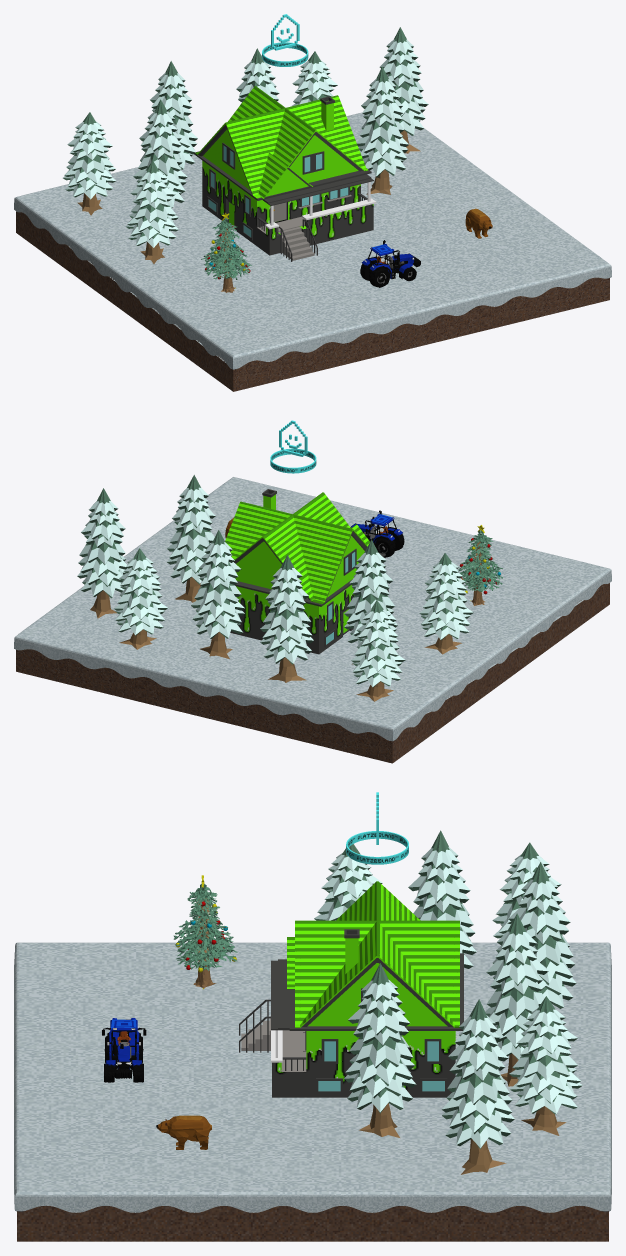
3 renders of one model, top to bottom at view 1: azimuth 30°, elevation 25°; view 2: azimuth 150°, elevation 25°; view 3: azimuth 270°, elevation 25°, orthographic. The views are drawn at different scales.
Visible parts, largest first — view 1: Cube.003, Cube.754, OBJRANDOM_CHRISTMAS_TREE, VEHICLES_TRACTOR, TYPE_PREMIUM, ANIMAL_OSO; view 2: Cube.003, Cube.754, OBJRANDOM_CHRISTMAS_TREE, VEHICLES_TRACTOR, TYPE_PREMIUM; view 3: Cube.003, Cube.754, OBJRANDOM_CHRISTMAS_TREE, VEHICLES_TRACTOR, ANIMAL_OSO, TYPE_PREMIUM.
Boxes of the visible parts, <box> form: Cube.003: <box>14,27,611,391</box>; Cube.754: <box>194,86,376,261</box>; OBJRANDOM_CHRISTMAS_TREE: <box>201,212,251,292</box>; VEHICLES_TRACTOR: <box>360,240,420,287</box>; TYPE_PREMIUM: <box>262,14,308,66</box>; ANIMAL_OSO: <box>465,208,492,238</box>; Cube.003: <box>14,475,611,763</box>; Cube.754: <box>225,489,388,654</box>; OBJRANDOM_CHRISTMAS_TREE: <box>458,525,503,605</box>; VEHICLES_TRACTOR: <box>350,510,404,557</box>; TYPE_PREMIUM: <box>270,420,316,473</box>; Cube.003: <box>14,830,611,1241</box>; Cube.754: <box>239,881,463,1097</box>; OBJRANDOM_CHRISTMAS_TREE: <box>173,875,237,989</box>; VEHICLES_TRACTOR: <box>102,1018,146,1082</box>; ANIMAL_OSO: <box>156,1115,211,1149</box>; TYPE_PREMIUM: <box>346,792,408,864</box>.
Size of the model in its own units: 4040 by 2475 by 4040.
32 materials, 5 textured.
